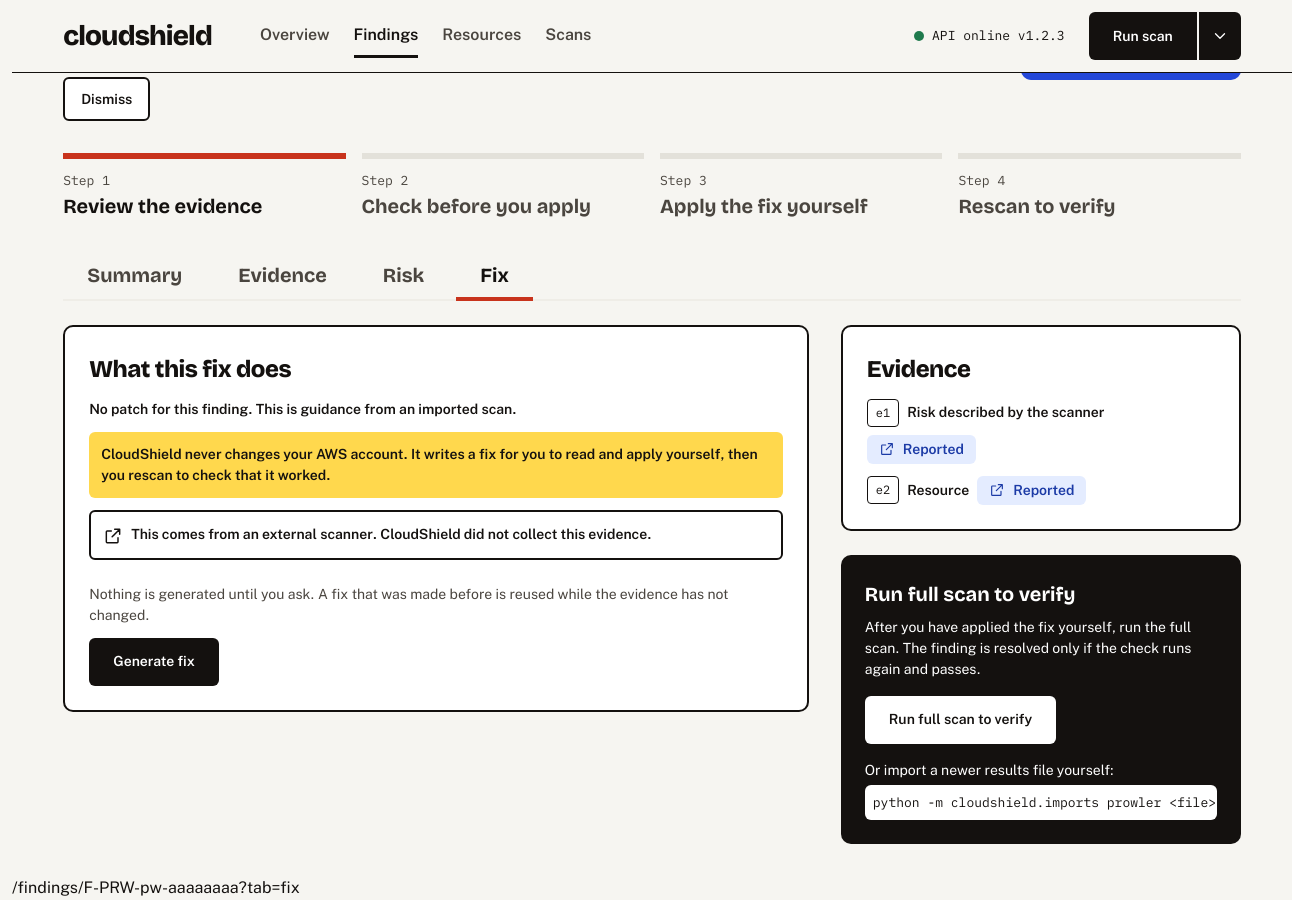
Test: Fix page: imported text is formatted › shows the scanner's guidance with bold, code and a list, and no raw marks
(page scrolled)
Step 1. Click the button "Generate fix" → (154,662), box [89, 638, 219, 686]
(page scrolled)
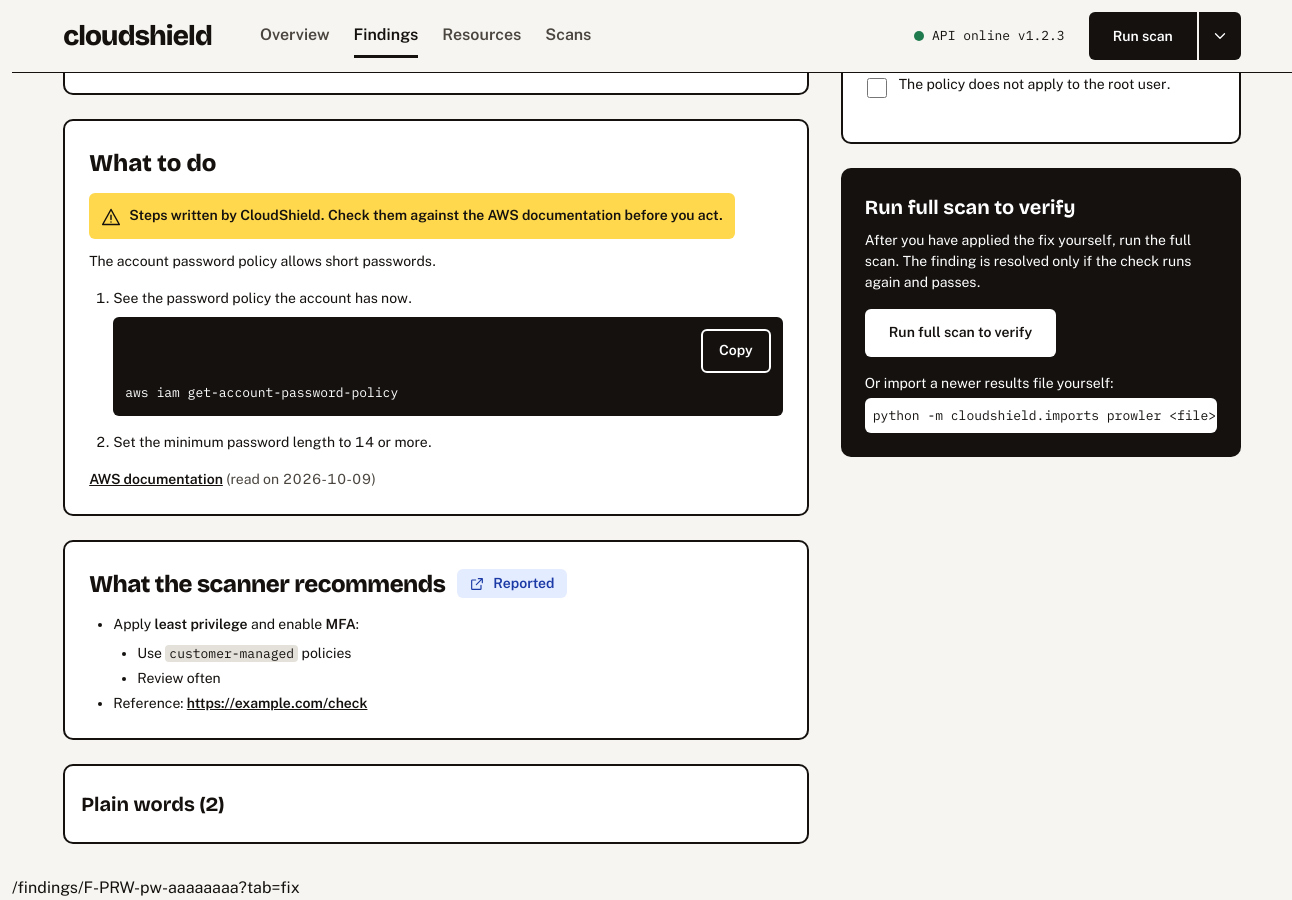
Expected: the heading "What to do" is shown, [89, 148, 216, 176]
Expected: the text "customer-managed" is shown, [165, 645, 298, 662]
Expected: the list item "Review often" is shown, [137, 670, 221, 686]
